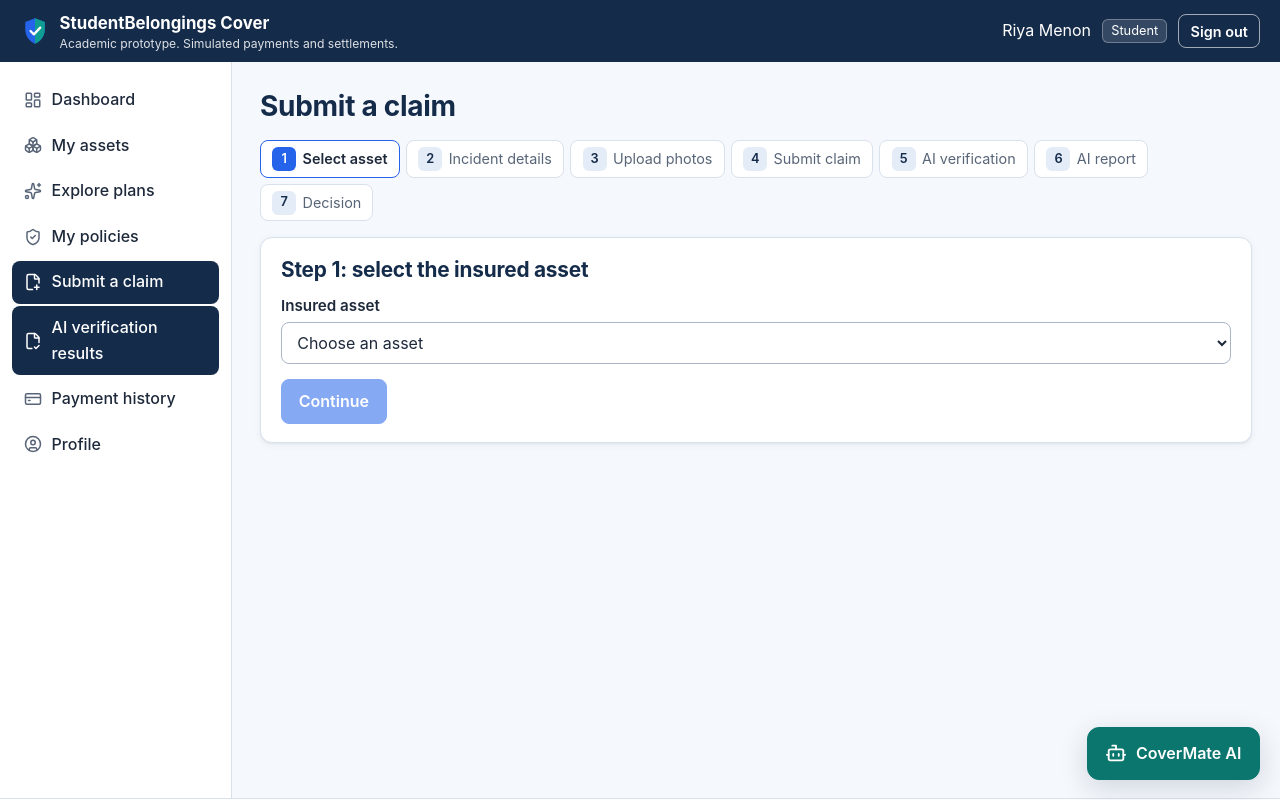
Test: claim submission and AI report › walks through asset and incident steps and creates the claim with no money or policy fields
The image size is (1280, 800).
Select "Acme X1 (Laptop, SBC-2026-00009)" in the dropdown labelled "Insured asset" at (756, 343), box [281,322,1231,364]
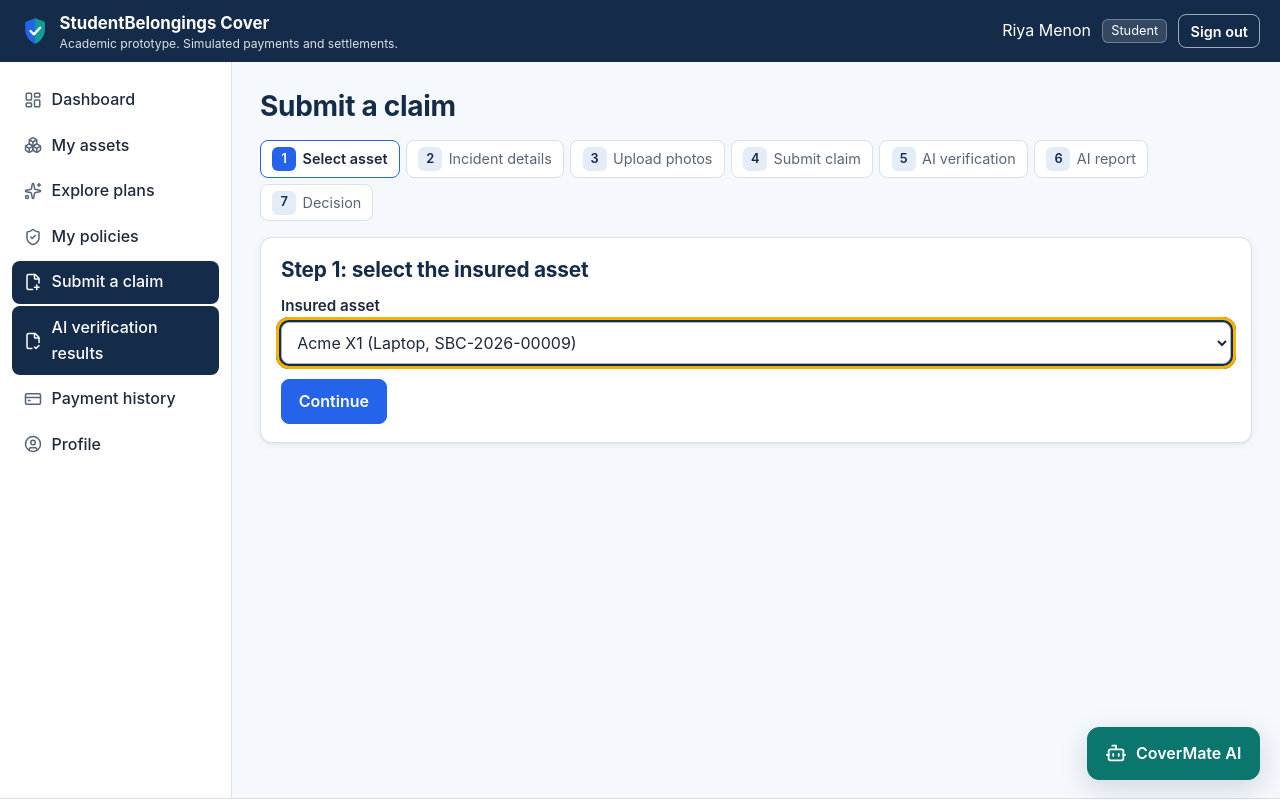
Click the button "Continue" at (334, 401), box [281,379,387,424]
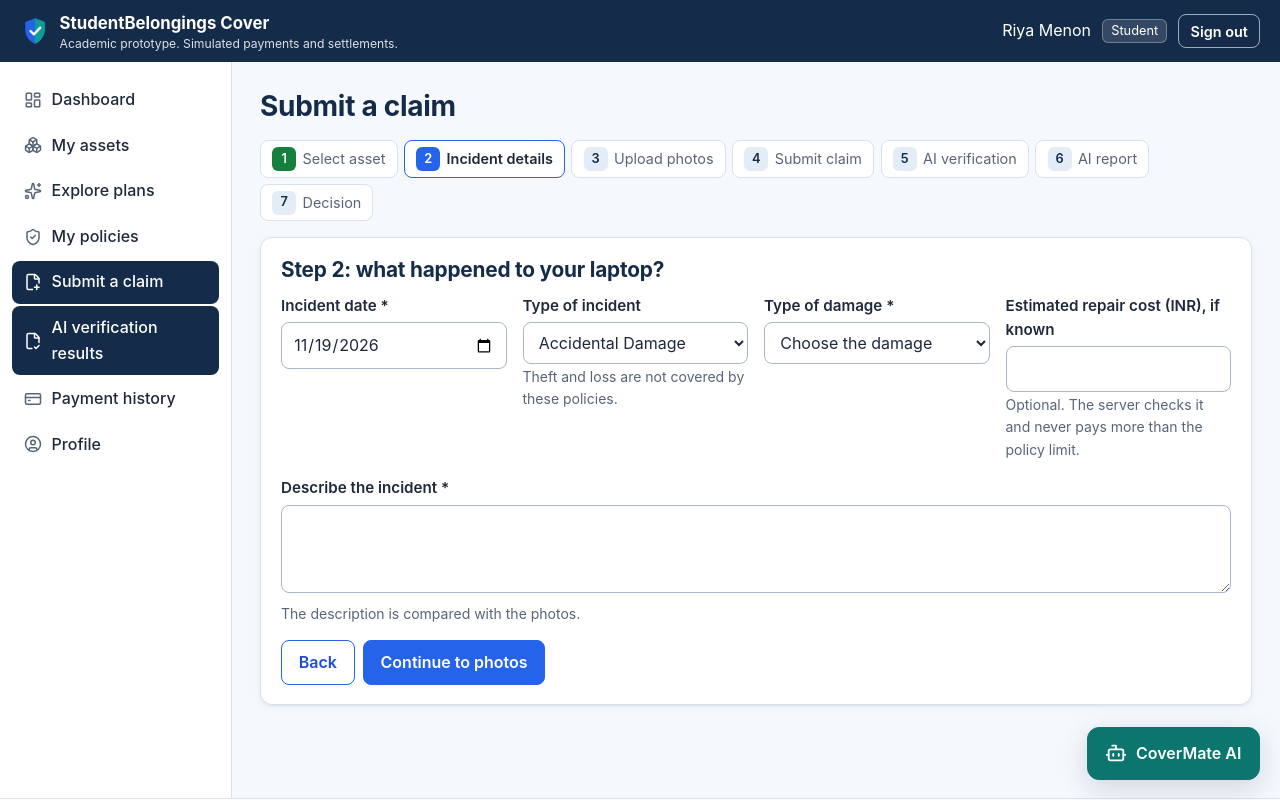
Click the button "Continue to photos" at (454, 663), box [363,640,545,685]
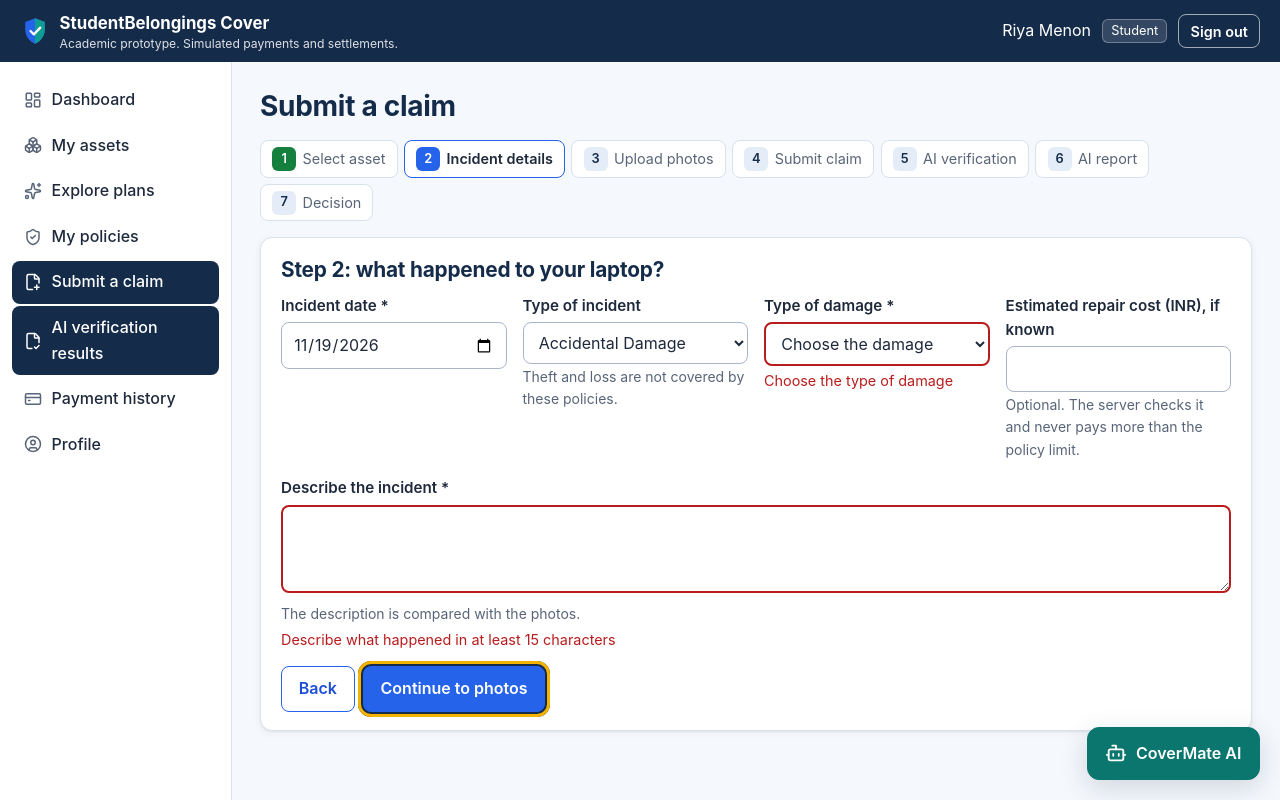
expect the text "Choose the type of damage" is shown: met, box [764,372,953,389]
Select "Broken screen" in the dropdown labelled "Type of damage *" at (877, 344), box [764,322,990,366]
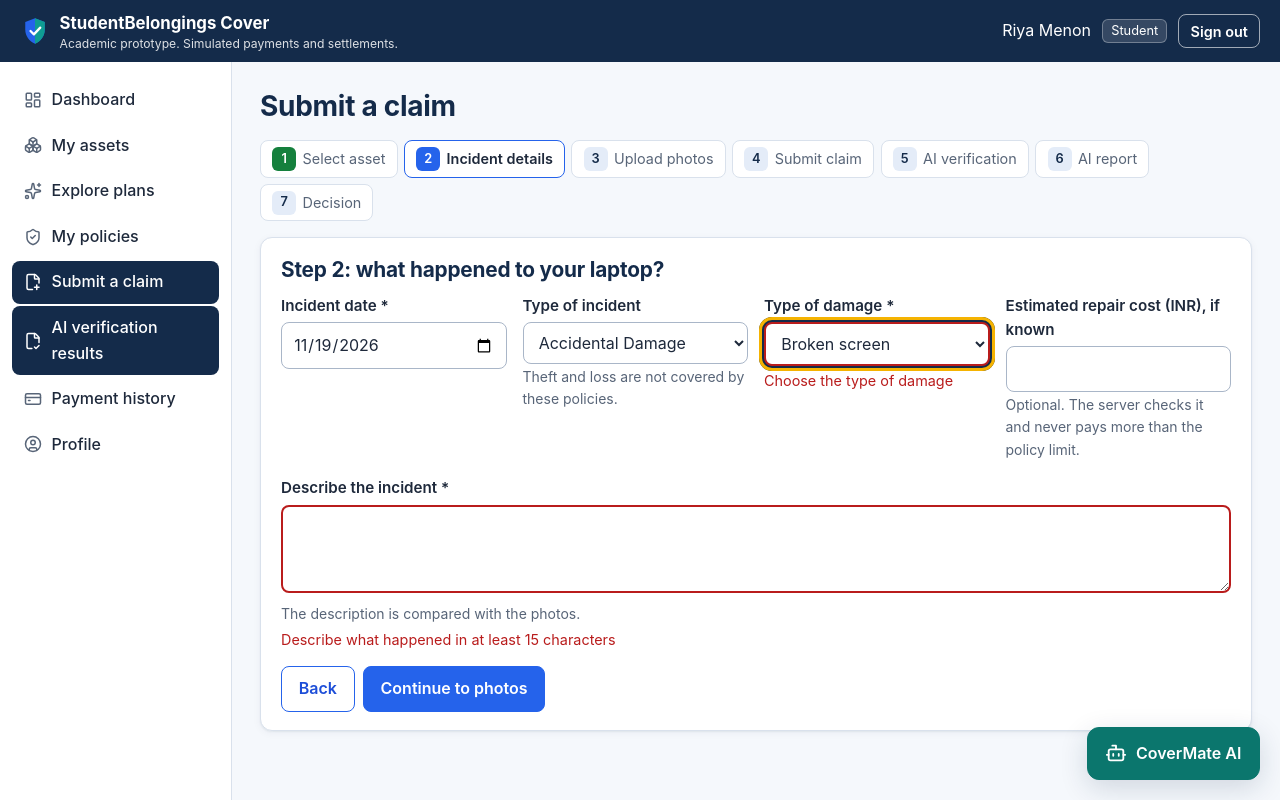
Type "My laptop fell and the screen cracked." into the text box labelled "Describe the incident *" at (756, 549), box [281,505,1231,593]
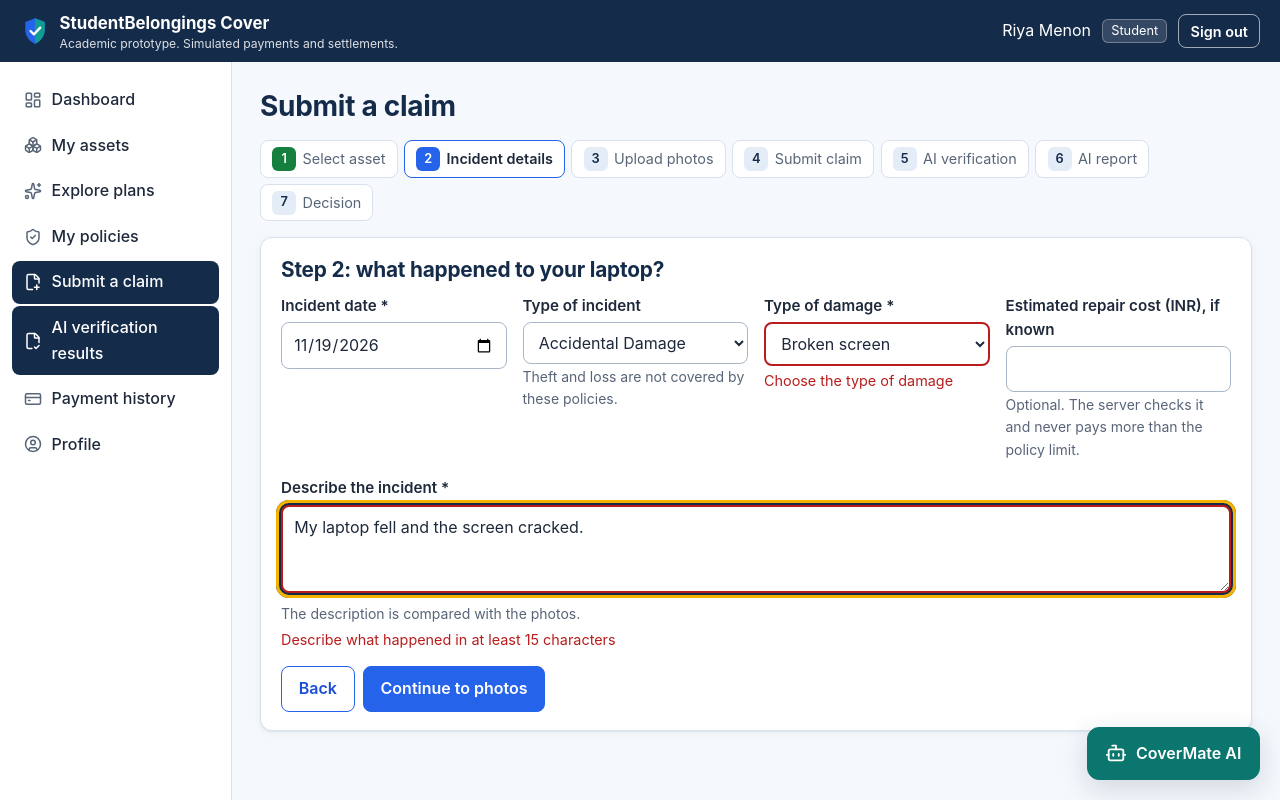
Click the button "Continue to photos" at (454, 689), box [363,666,545,712]
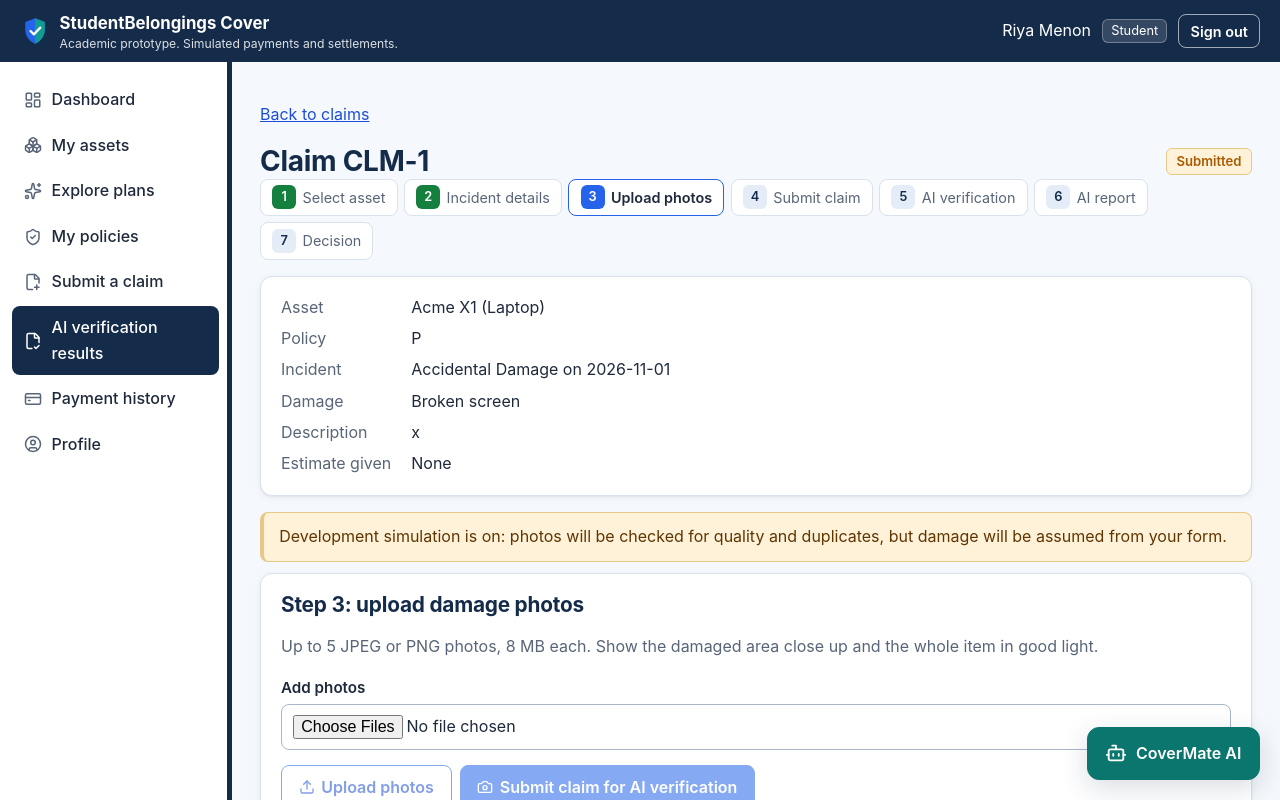
expect the heading "Claim CLM-1" is shown: met, box [260,144,429,179]
expect the text "Development simulation is on" is shown: met, box [279,526,1227,546]
